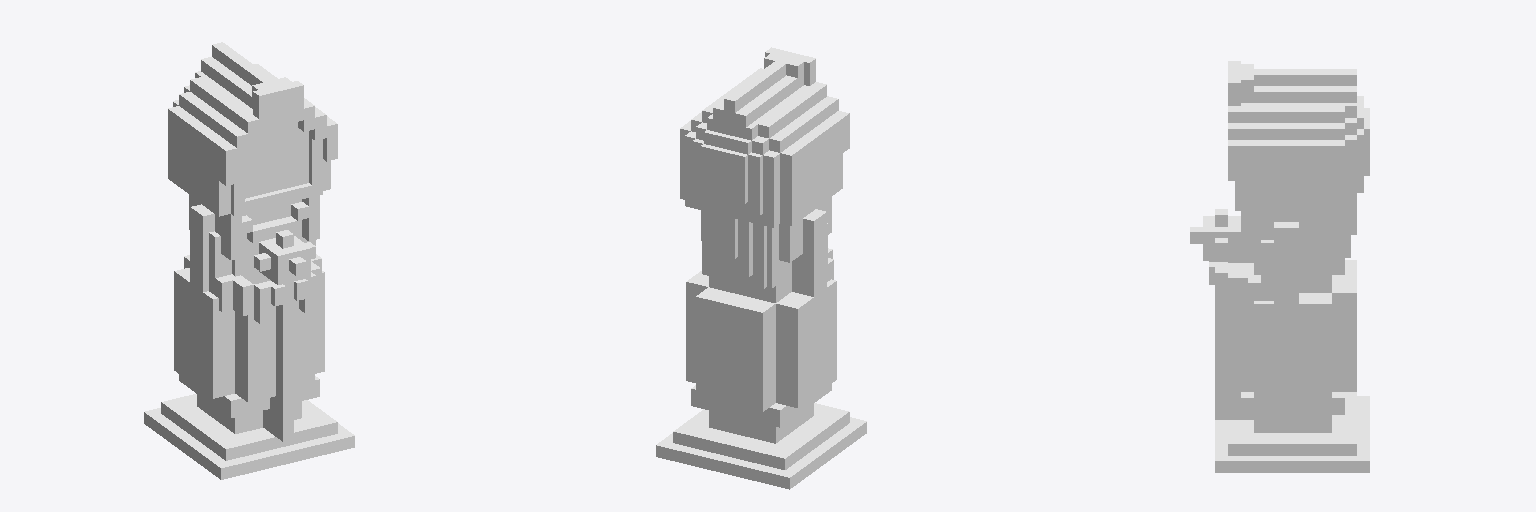
File: queen.obj
The picture shows the model from 3 angles: view 1: azimuth 30°, elevation 25°; view 2: azimuth 150°, elevation 25°; view 3: azimuth 270°, elevation 25°; orthographic projection.
Visible parts, largest first — view 1: object 1; view 2: object 1; view 3: object 1.
Boxes of the visible parts, x1=… form: object 1: x1=144, y1=42, x2=354, y2=479; object 1: x1=656, y1=47, x2=866, y2=489; object 1: x1=1190, y1=61, x2=1369, y2=472.
Size of the model in its own units: 2.4 by 6.3 by 2.8.